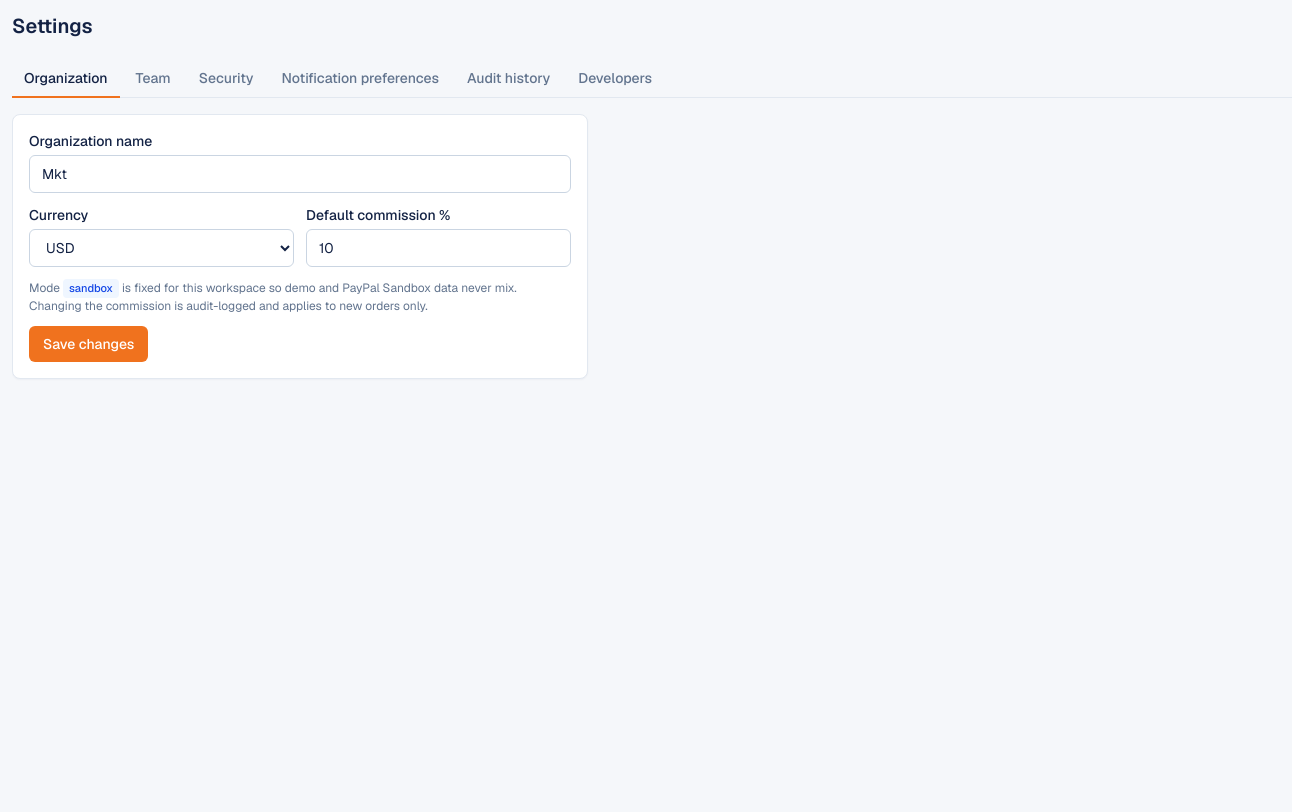
storefront API keys › creates a key, shows the secret once with a curl example, then revokes it
Click the tab "Developers". click: click(615, 79)
box: left=566, top=60, right=664, bottom=98
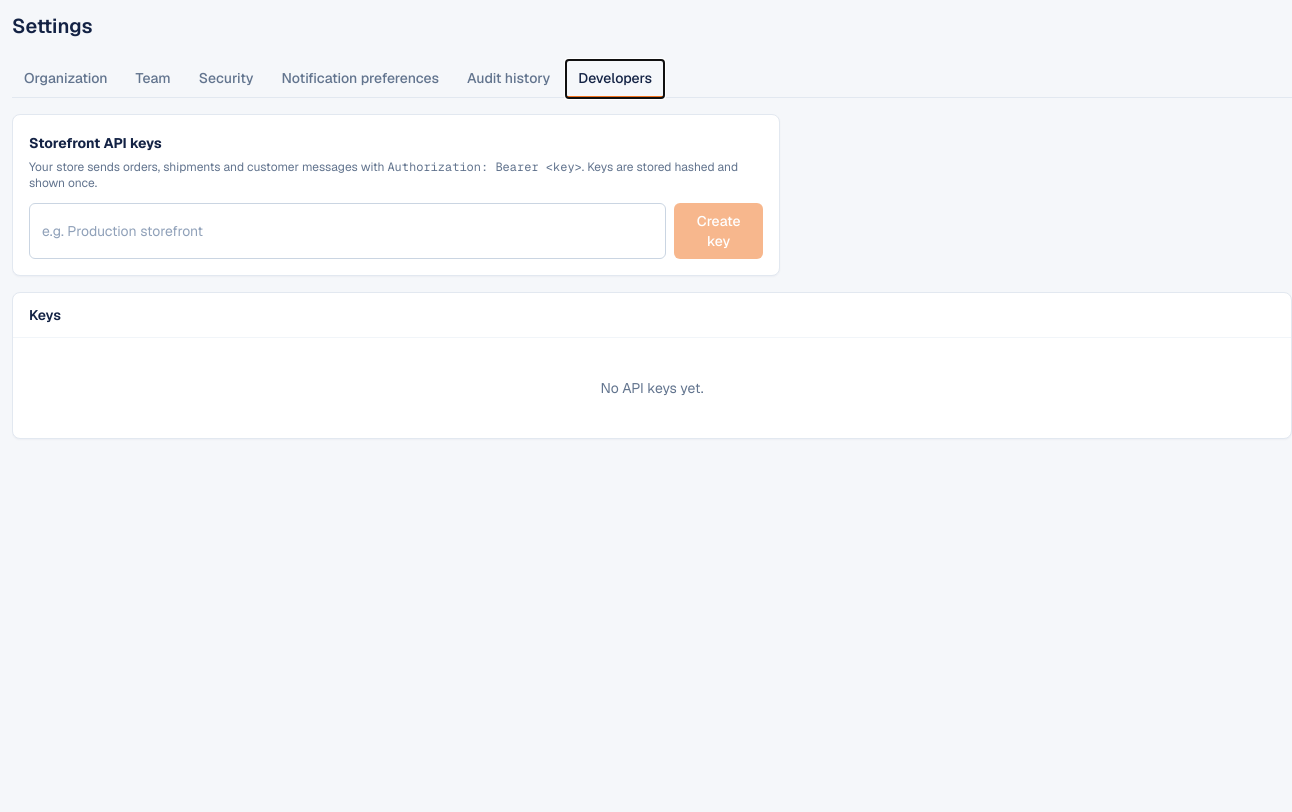
Expected: the text "No API keys yet." is shown, left=600, top=379, right=704, bottom=397
Type "Shop" into the field named "Key name". click: (348, 231)
box: left=29, top=203, right=666, bottom=259
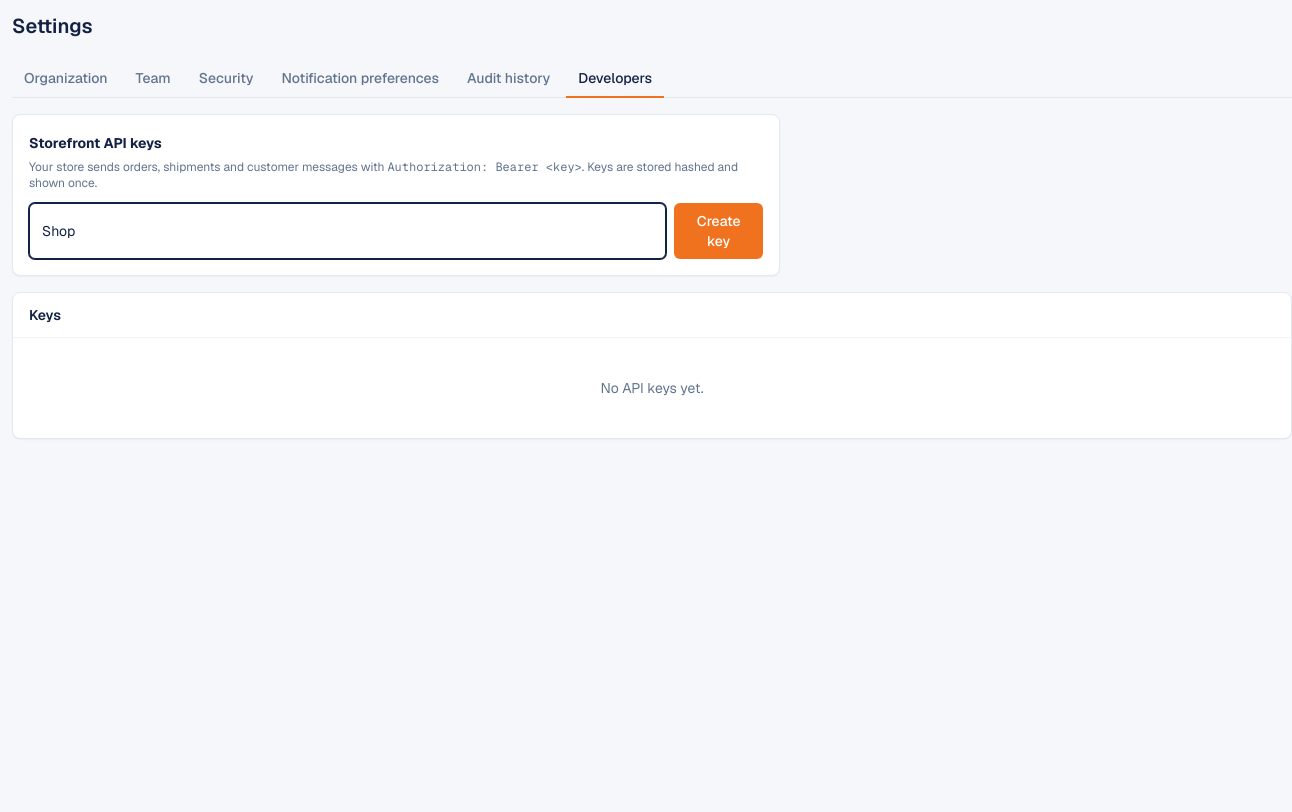
Click the button "Create key". click: click(719, 231)
box: left=674, top=203, right=763, bottom=259
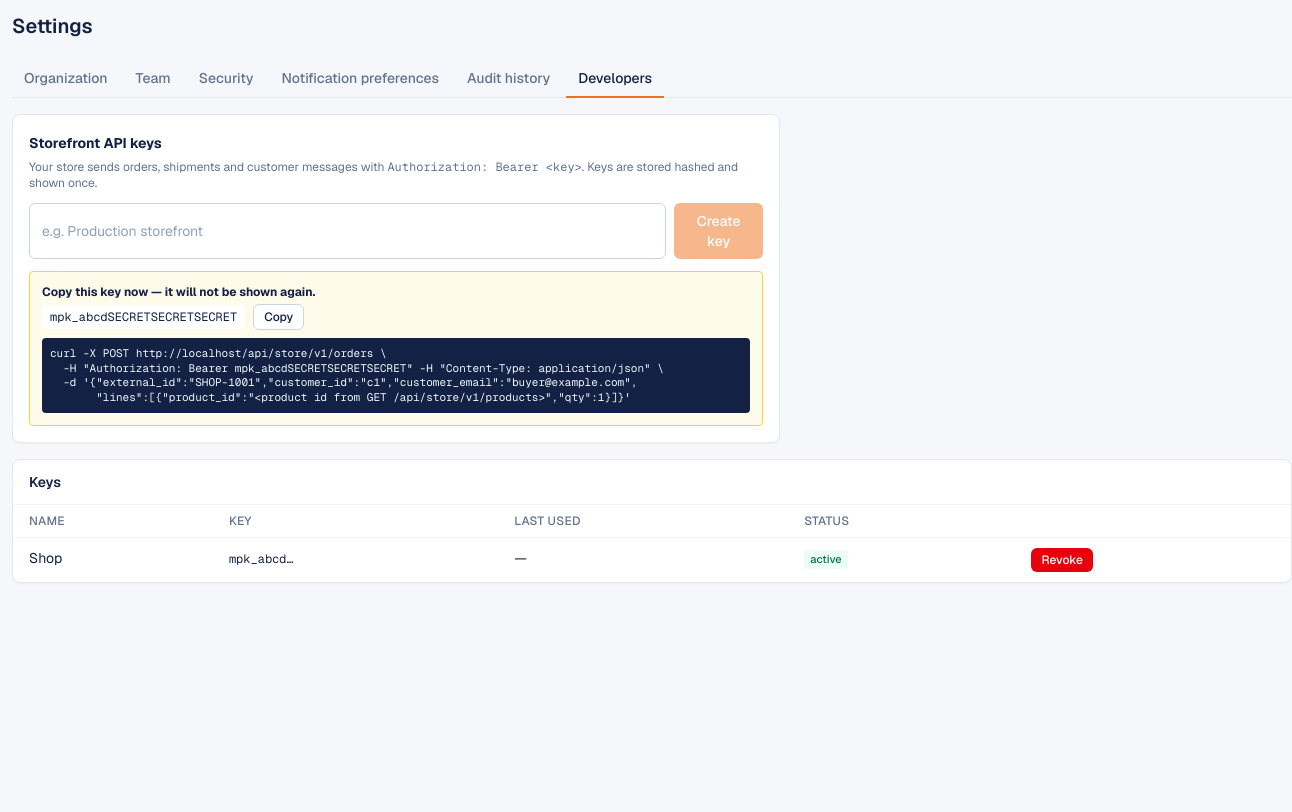
Expected: the text with test id "new-key" reads "mpk_abcdSECRETSECRETSECRET", left=50, top=309, right=237, bottom=325
Expected: the text "Copy this key now — it will not be shown again." is shown, left=42, top=284, right=315, bottom=300
Expected: the text "/api/store/v1/orders" is shown, left=50, top=346, right=664, bottom=404
Click the button "Revoke". click: click(1062, 560)
box: left=1031, top=548, right=1093, bottom=572
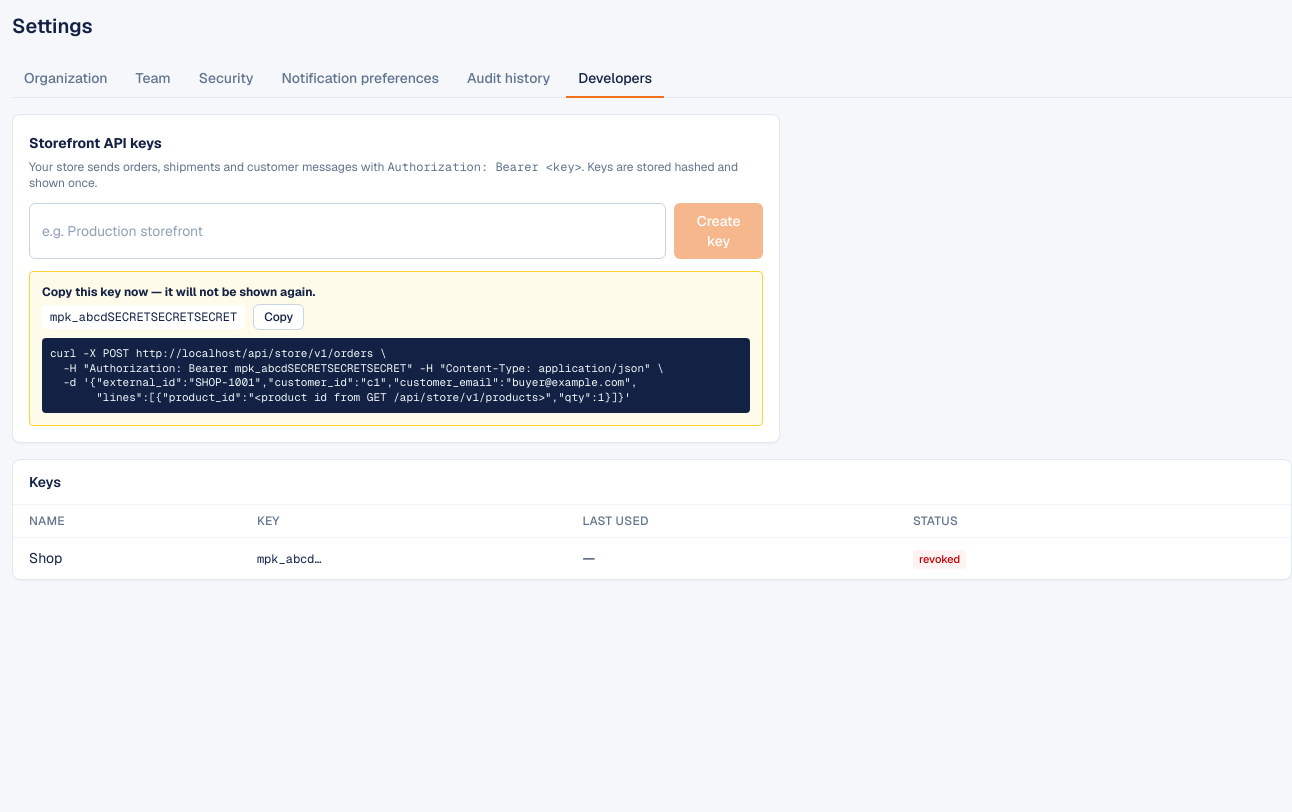
Expected: the text "revoked" is shown, left=913, top=550, right=966, bottom=569
